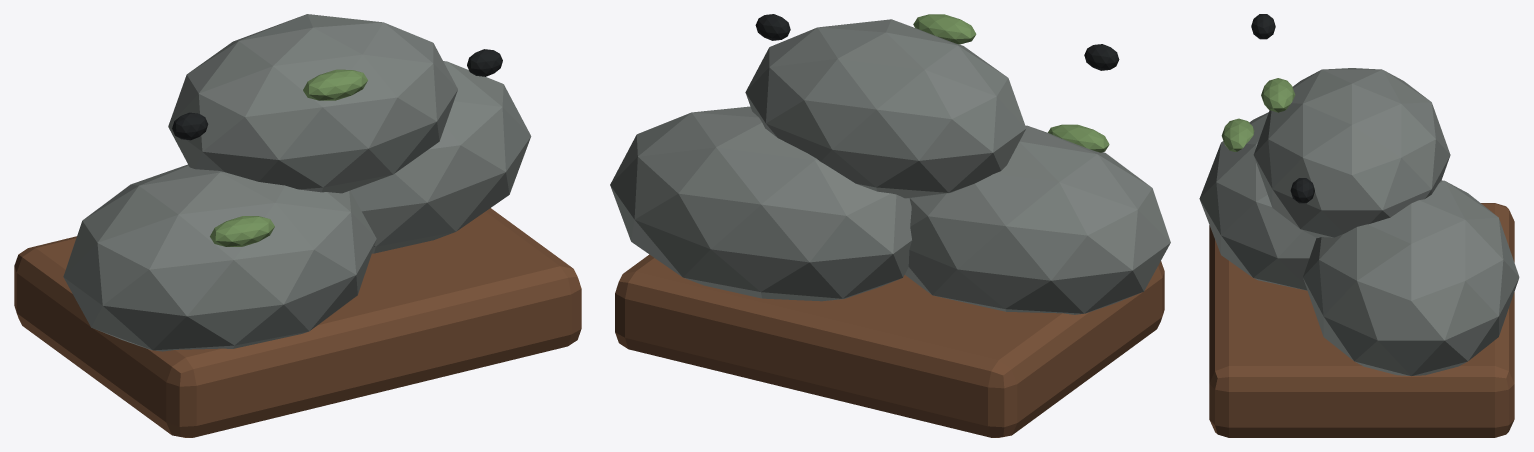
Rendered from economy_cargo_rotten_meat_v01.glb.
3 views of the same model, side by side, from view 1: azimuth 30°, elevation 25°; view 2: azimuth 150°, elevation 25°; view 3: azimuth 270°, elevation 25° (orthographic). The views are drawn at different scales.
Parts seen in each view (by area): view 1: GEO_RottenMeatTray, GEO_RottenMeatCut_0, GEO_RottenMeatCut_2, GEO_RottenMeatCut_1, GEO_RottenMeatMould_2, GEO_RottenMeatMould_0, GEO_RottenMeatFly_1, GEO_RottenMeatFly_0; view 2: GEO_RottenMeatTray, GEO_RottenMeatCut_1, GEO_RottenMeatCut_2, GEO_RottenMeatCut_0, GEO_RottenMeatMould_2, GEO_RottenMeatMould_0, GEO_RottenMeatFly_0, GEO_RottenMeatFly_1; view 3: GEO_RottenMeatTray, GEO_RottenMeatCut_1, GEO_RottenMeatCut_2, GEO_RottenMeatCut_0, GEO_RottenMeatMould_2, GEO_RottenMeatMould_0, GEO_RottenMeatFly_0, GEO_RottenMeatFly_1.
Boxes of the visible parts, x1,y1,x2,y2 form: GEO_RottenMeatTray: [14, 208, 581, 437]; GEO_RottenMeatCut_0: [63, 164, 376, 351]; GEO_RottenMeatCut_2: [168, 14, 457, 193]; GEO_RottenMeatCut_1: [350, 61, 531, 253]; GEO_RottenMeatMould_2: [303, 69, 367, 100]; GEO_RottenMeatMould_0: [210, 216, 274, 246]; GEO_RottenMeatFly_1: [467, 49, 502, 76]; GEO_RottenMeatFly_0: [172, 112, 208, 140]; GEO_RottenMeatTray: [615, 254, 1164, 437]; GEO_RottenMeatCut_1: [610, 106, 911, 301]; GEO_RottenMeatCut_2: [745, 19, 1026, 198]; GEO_RottenMeatCut_0: [905, 125, 1170, 314]; GEO_RottenMeatMould_2: [913, 14, 976, 44]; GEO_RottenMeatMould_0: [1048, 124, 1109, 152]; GEO_RottenMeatFly_0: [1084, 44, 1119, 70]; GEO_RottenMeatFly_1: [755, 14, 790, 40]; GEO_RottenMeatTray: [1209, 203, 1514, 437]; GEO_RottenMeatCut_1: [1303, 180, 1519, 376]; GEO_RottenMeatCut_2: [1253, 68, 1450, 237]; GEO_RottenMeatCut_0: [1199, 112, 1316, 290]; GEO_RottenMeatMould_2: [1261, 78, 1295, 112]; GEO_RottenMeatMould_0: [1221, 118, 1254, 151]; GEO_RottenMeatFly_0: [1251, 14, 1275, 39]; GEO_RottenMeatFly_1: [1290, 178, 1314, 203].
Bounding box in the file's own units: 1.01 × 0.62 × 0.65.
